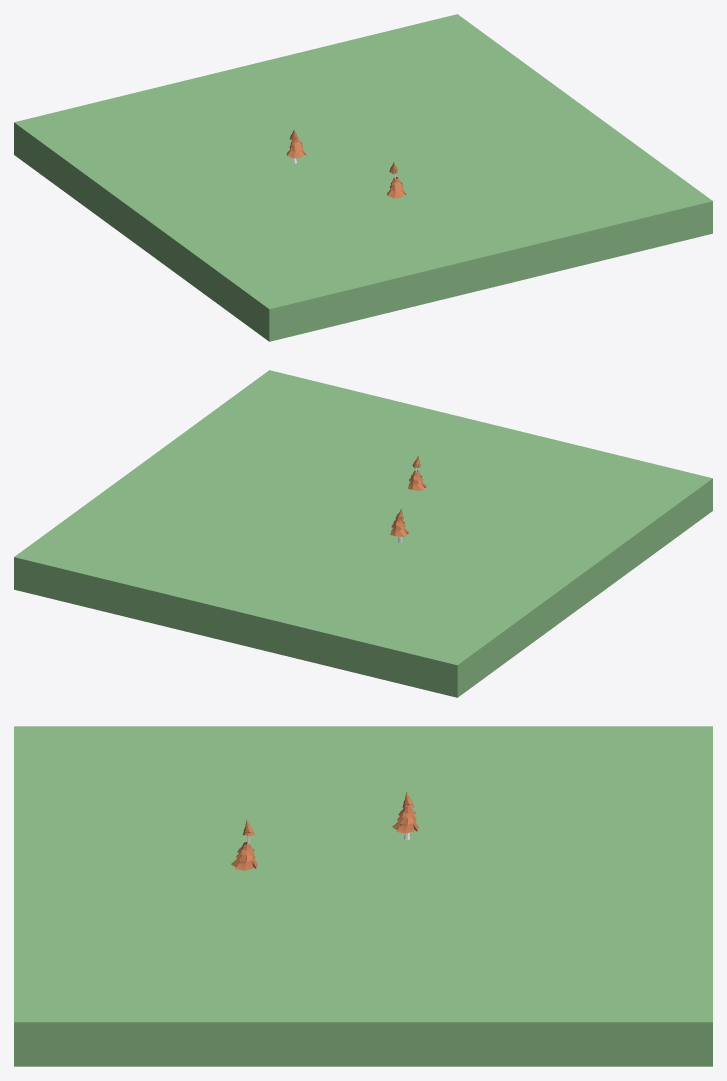
Rendered from sceneTEST.glb.
3 views of the same model, one above another, from view 1: azimuth 30°, elevation 25°; view 2: azimuth 150°, elevation 25°; view 3: azimuth 270°, elevation 25° (orthographic). The views are drawn at different scales.
Parts seen in each view (by area): view 1: sol; view 2: sol; view 3: sol.
Part boxes in pixels (left/top/right/bottom): sol: left=14, top=14, right=712, bottom=341; sol: left=14, top=370, right=712, bottom=697; sol: left=14, top=726, right=712, bottom=1066.
Size of the model in its own units: 42.2 by 6.08 by 42.1.
